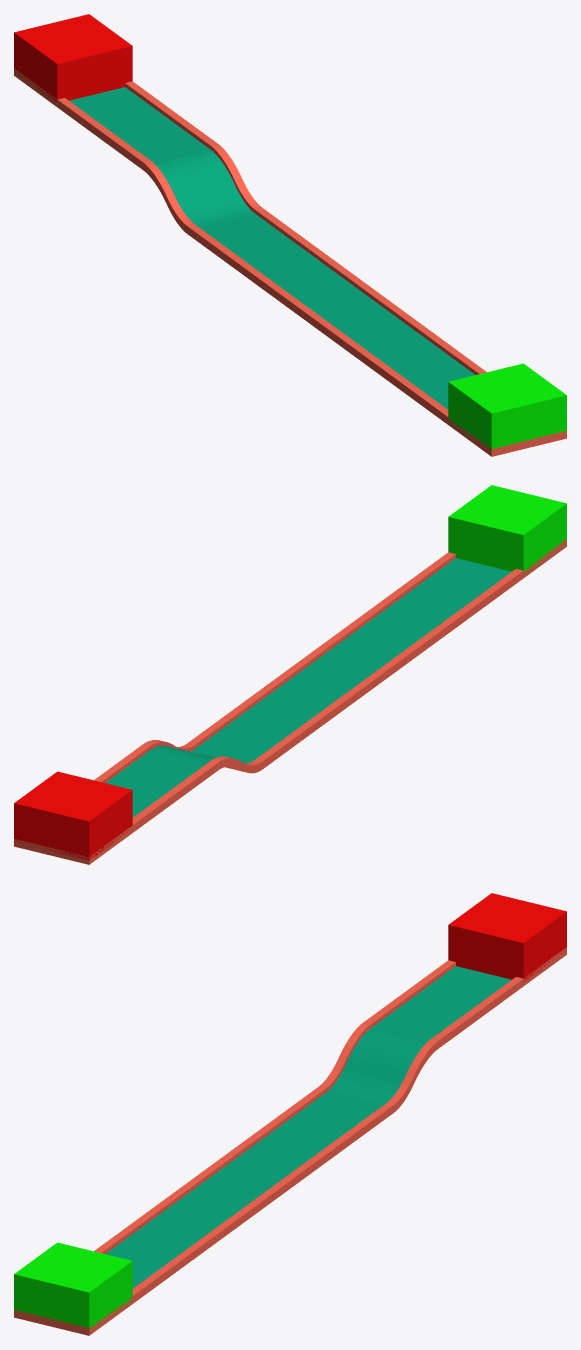
Rendered from track7.glb.
3 renders of one model, top to bottom at view 1: azimuth 30°, elevation 25°; view 2: azimuth 150°, elevation 25°; view 3: azimuth 330°, elevation 25°, orthographic.
Parts seen in each view (by area): view 1: straight (×8), finish_block, start_block, slope_smoothD, end; view 2: straight (×8), start_block, finish_block, slope_smoothD, end; view 3: straight (×8), finish_block, start_block, slope_smoothD, end.
Boxes of the visible parts, x1,y1,x2,y2 form: straight (×8): (57,81,486,424); finish_block: (14,14,132,102); start_block: (448,363,566,452); slope_smoothD: (144,145,262,233); end: (448,418,566,456); straight (×8): (94,552,523,832); start_block: (448,485,566,573); finish_block: (14,771,132,860); slope_smoothD: (145,740,262,773); end: (14,825,132,864); straight (×8): (94,960,523,1303); finish_block: (448,893,566,981); start_block: (14,1242,132,1331); slope_smoothD: (318,1024,436,1112); end: (14,1297,132,1335).
Size of the model in its own units: 2 by 1.9 by 22.
